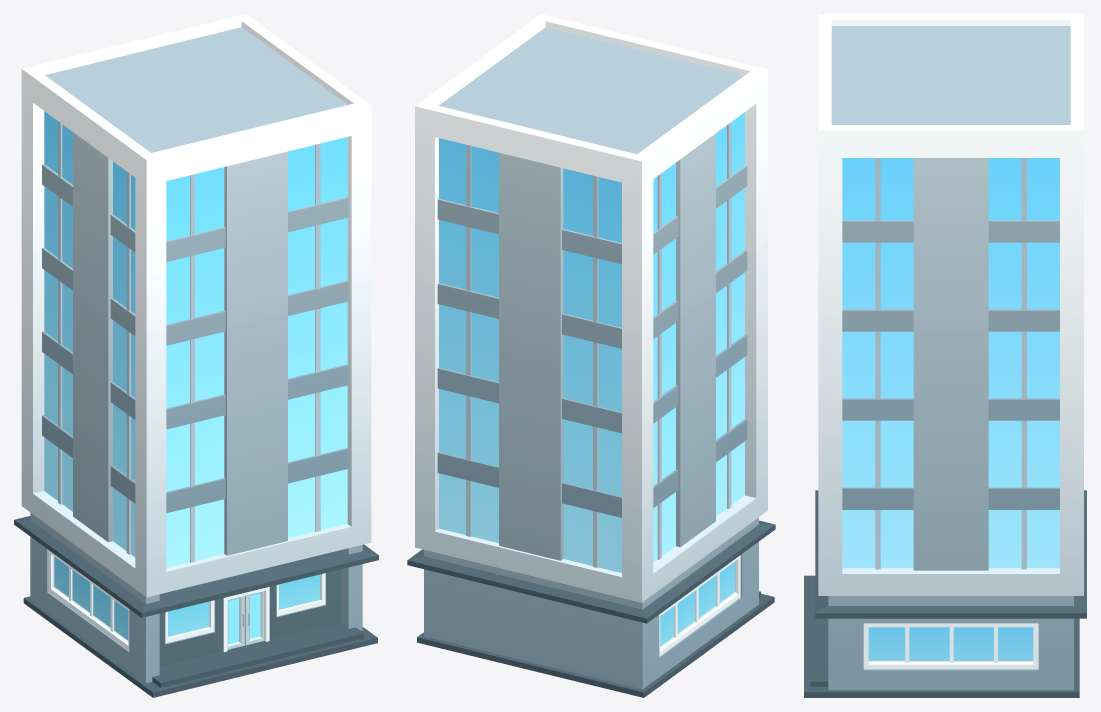
Rendered from city2-building-living-44.glb.
3 views of the same model, side by side, from view 1: azimuth 30°, elevation 25°; view 2: azimuth 150°, elevation 25°; view 3: azimuth 270°, elevation 25° (orthographic). The views are drawn at different scales.
Parts seen in each view (by area): view 1: Building_Living_44; view 2: Building_Living_44; view 3: Building_Living_44.
Boxes of the visible parts, <box> form: Building_Living_44: <box>14,14,378,697</box>; Building_Living_44: <box>407,14,775,697</box>; Building_Living_44: <box>804,14,1086,697</box>.
Bounding box in the file's own units: 10.41 × 22.34 × 10.09.
Materials: 2 (2 with a texture image).
